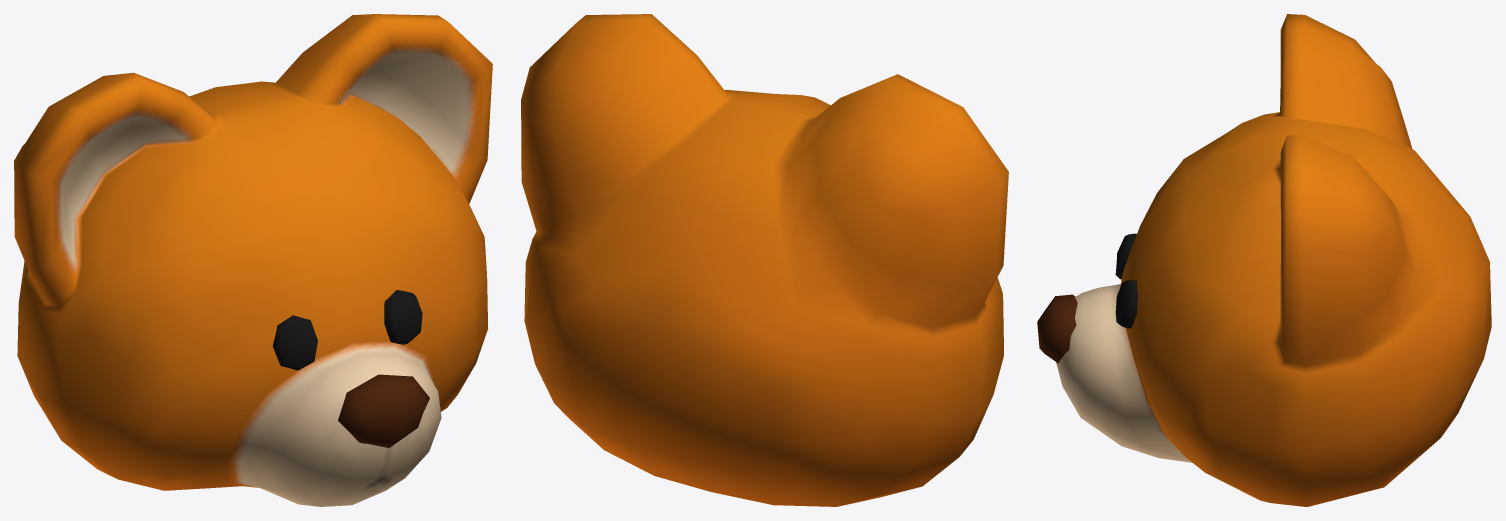
Rendered from dog.fbx.
The picture shows the model from 3 angles, left to right: view 1: azimuth 30°, elevation 25°; view 2: azimuth 150°, elevation 25°; view 3: azimuth 270°, elevation 25°; orthographic projection. The views are drawn at different scales.
Visible parts, largest first — view 1: dog; view 2: dog; view 3: dog.
Boxes of the visible parts, x1,y1,x2,y2 form: dog: (14, 14, 492, 506); dog: (521, 14, 1008, 506); dog: (1037, 14, 1491, 506).
Size of the model in its own units: 105 by 90.87 by 97.94.
